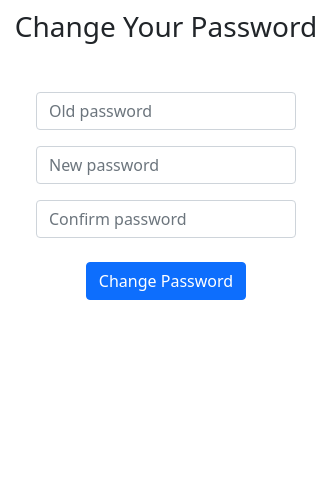
Scenario: Testing EditPassword component › Testing the component when the password confirmation dont match the new password
// entering new password
Type "qwertY7," into the password field with placeholder "New password".
click(166, 165); type("qwertY7,")  # box [36, 146, 296, 184]
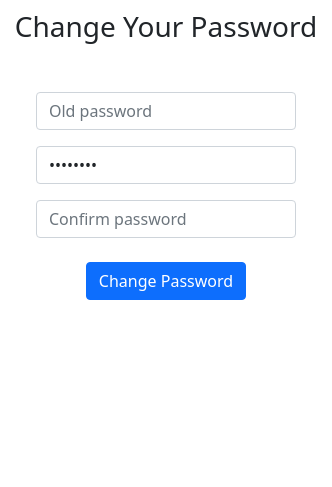
// entering password confirmation that dont match the new password
Type "qwertY8," into the password field with placeholder "Confirm password".
click(166, 219); type("qwertY8,")  # box [36, 200, 296, 238]
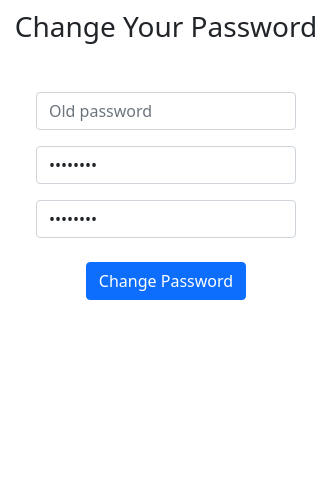
// clicking the change password button
Click the button "Change Password".
click(166, 281)  # box [86, 262, 246, 300]
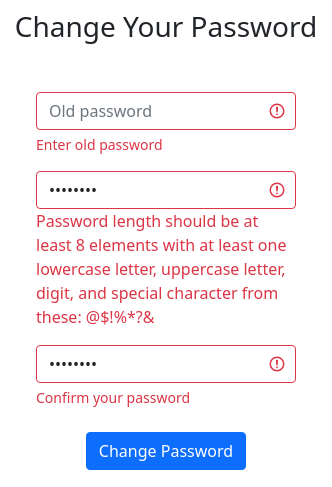
Result: the text "Confirm your password" is shown at [36, 388, 190, 407]
